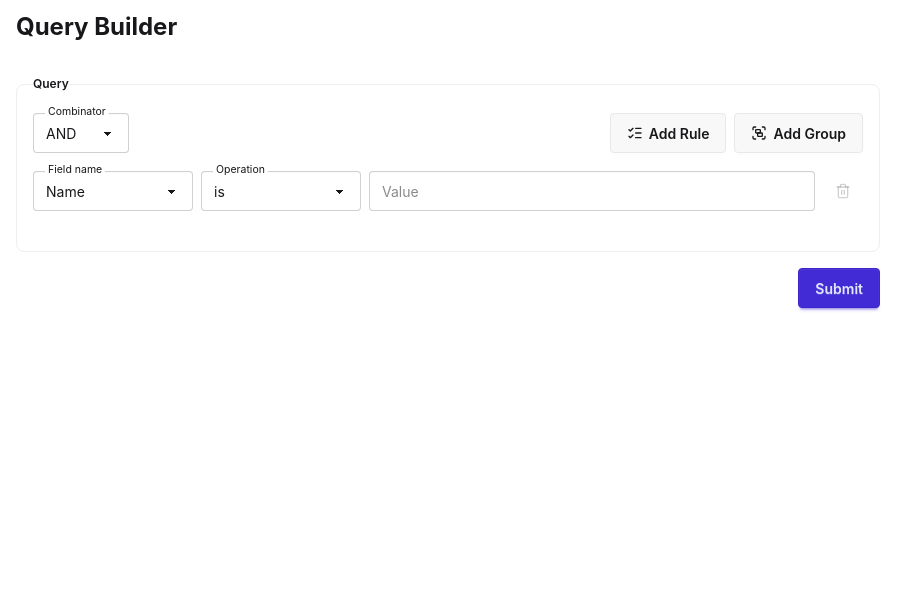
rule fields › rules are numbered groups within their own group
Click the button "Add Rule" at (668, 133), box [610,113,726,153]
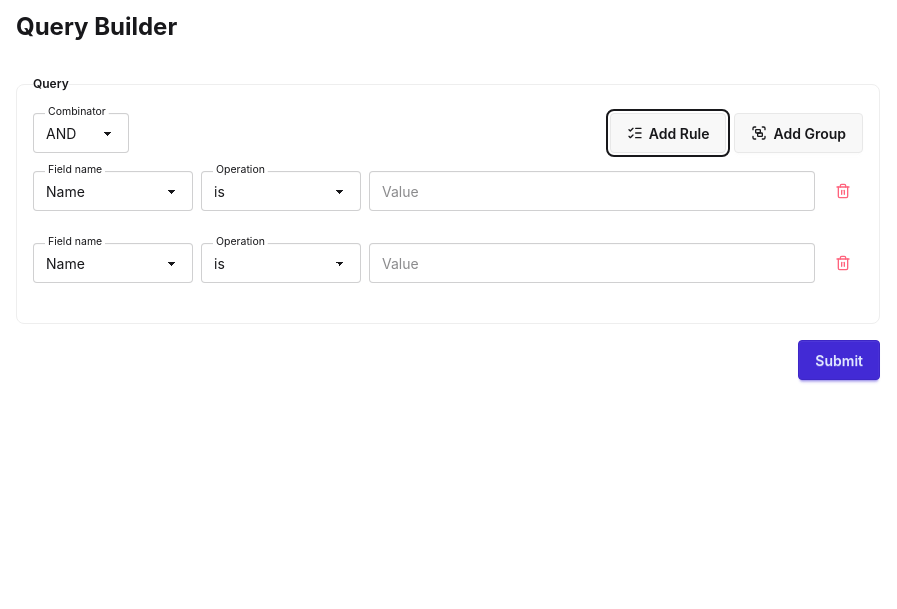
Click the button "Add Group" at (799, 133), box [734,113,863,153]
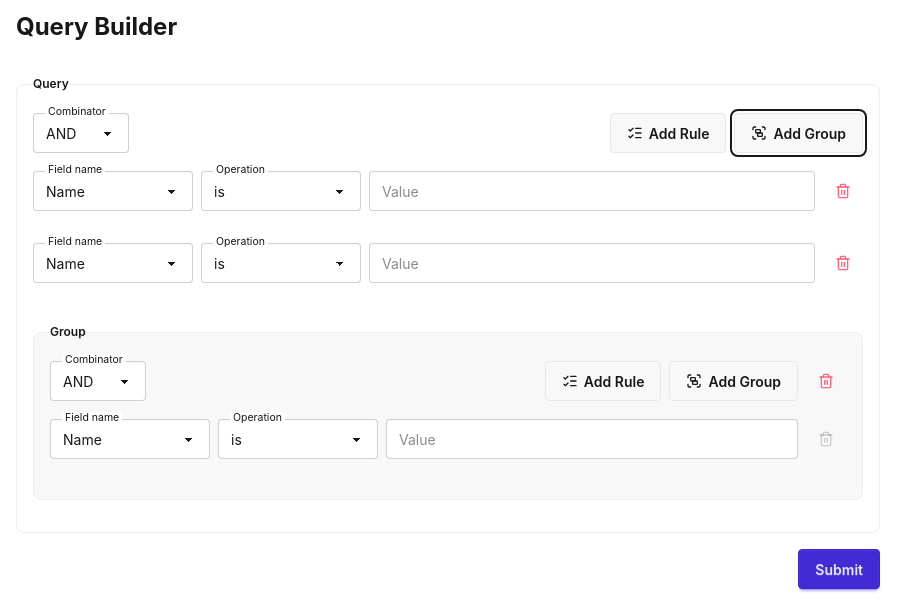
Expected: the number of elements named "Rule 2" is 1, [33,243,863,307]
